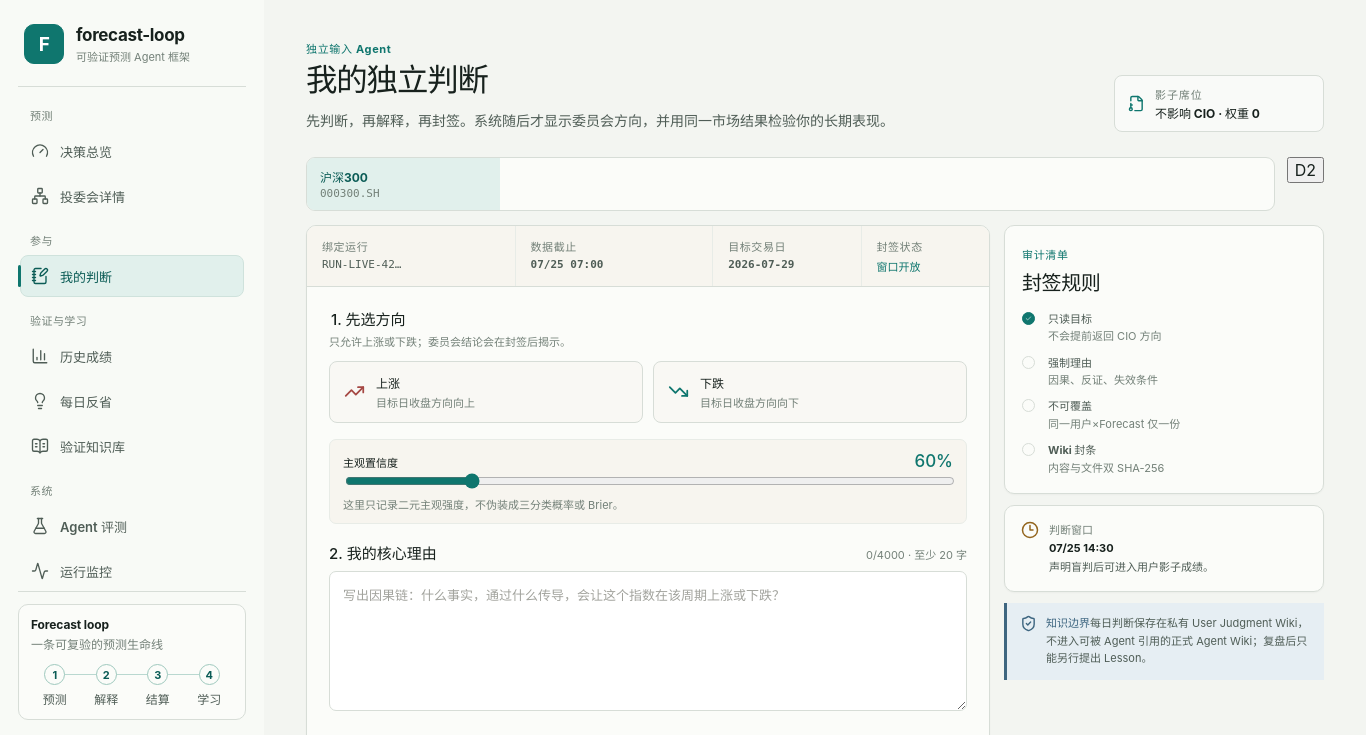
Test: forecast-loop app › seals a User Agent judgment before revealing the committee direction
The width and height of the screenshot is (1366, 735).
Expected: the heading "我的独立判断" is shown, [306, 61, 488, 99]
Click the radio button labelled "上涨 目标日收盘方向向上" at (426,403), box [329, 361, 643, 423]
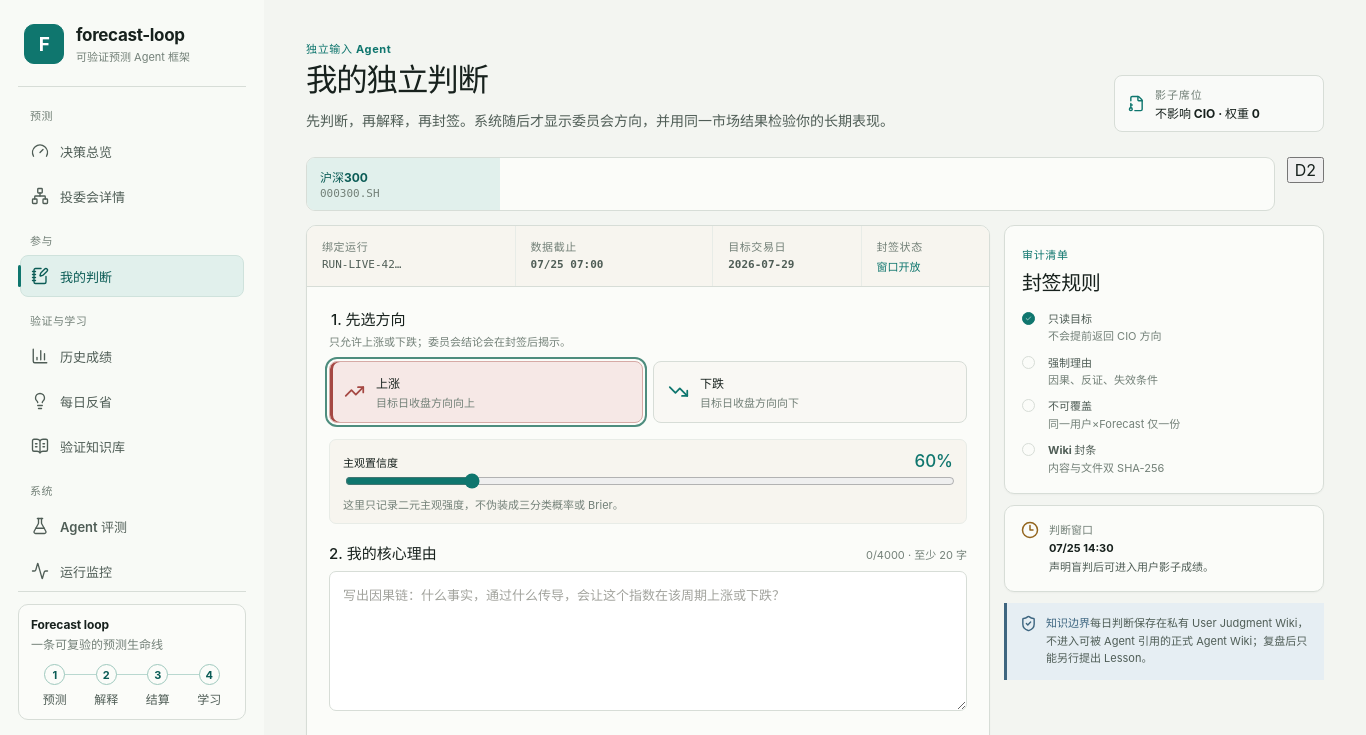
Type "流动性改善与风险偏好回升可能共同推动目标指数在预测窗口内走强。" into the text box labelled "2. 我的核心理由 0/4000 · 至少 20 字" at (648,641), box [329, 571, 967, 711]
(page scrolled)
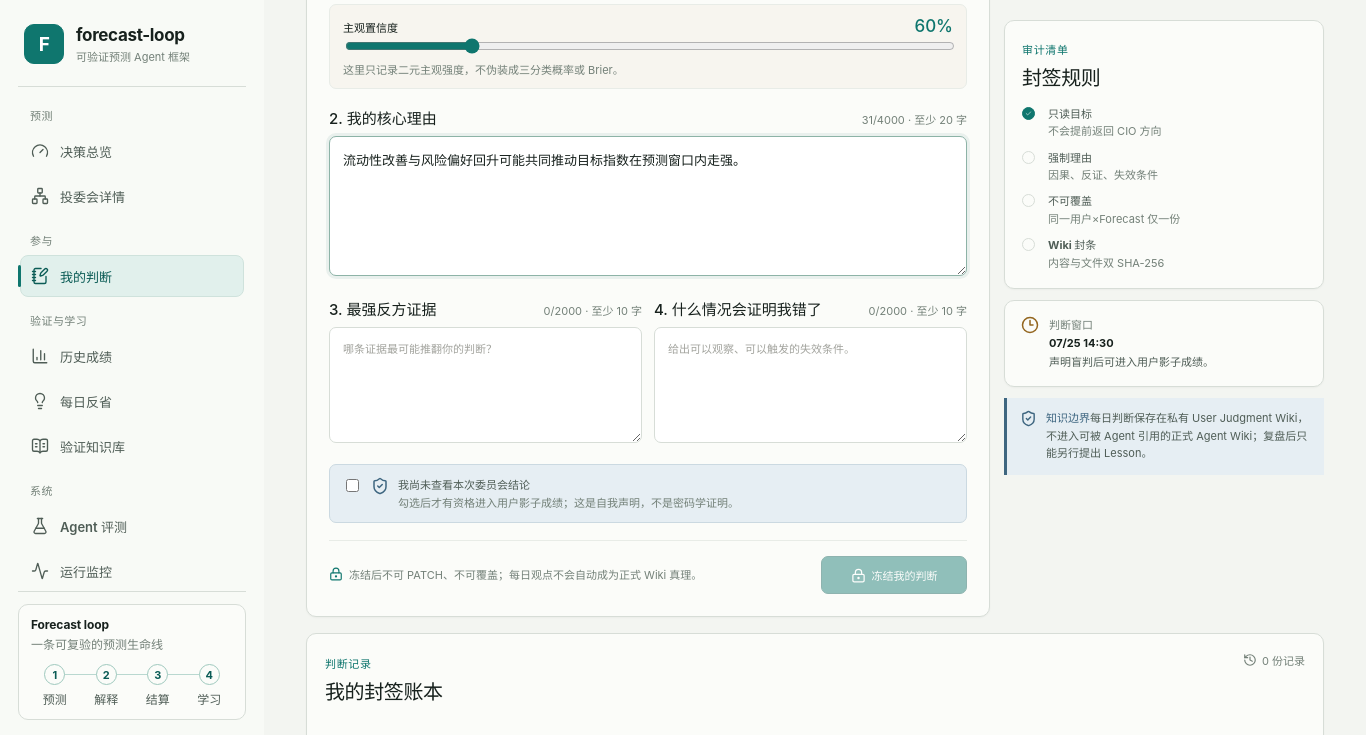
Type "海外利率重新上行可能压制成长估值，并削弱流动性改善效果。" into the text box labelled "3. 最强反方证据 0/2000 · 至少 10 字" at (486,385), box [329, 327, 642, 443]
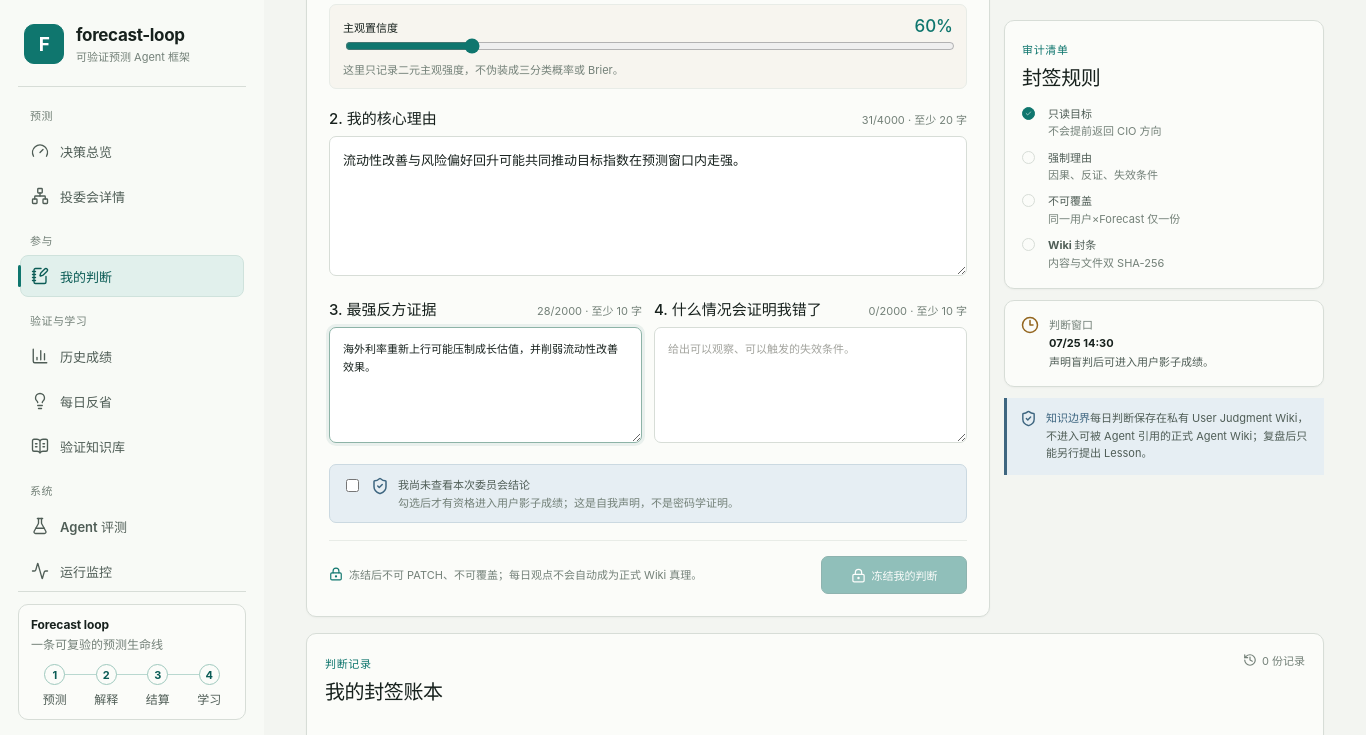
Type "若成交额显著收缩且跌破基准日低点，则本判断失效。" into the text box labelled "4. 什么情况会证明我错了 0/2000 · 至少 10 字" at (810,385), box [654, 327, 967, 443]
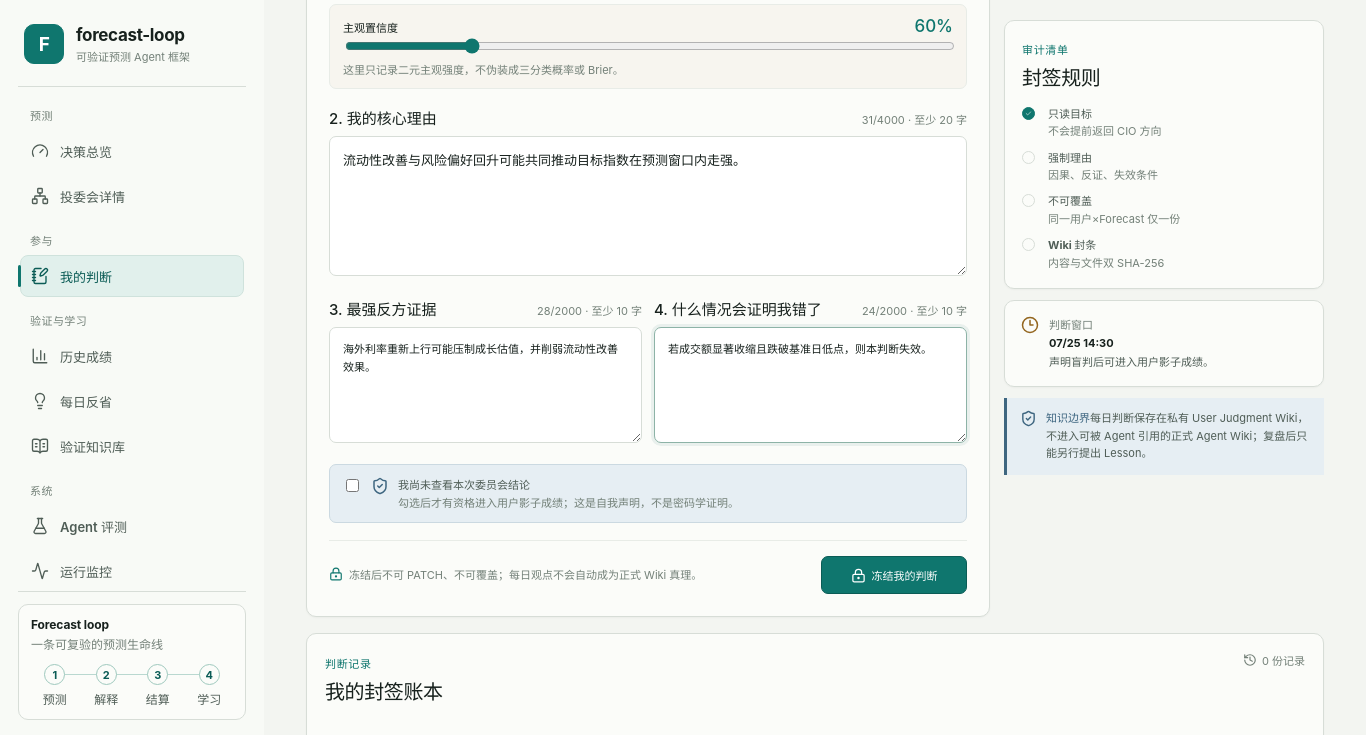
Click the checkbox labelled "我尚未查看本次委员会结论 勾选后才有资格进入用户影子成绩；这是自我声明，不是密码学证明。" at (352,485), box [346, 479, 359, 492]
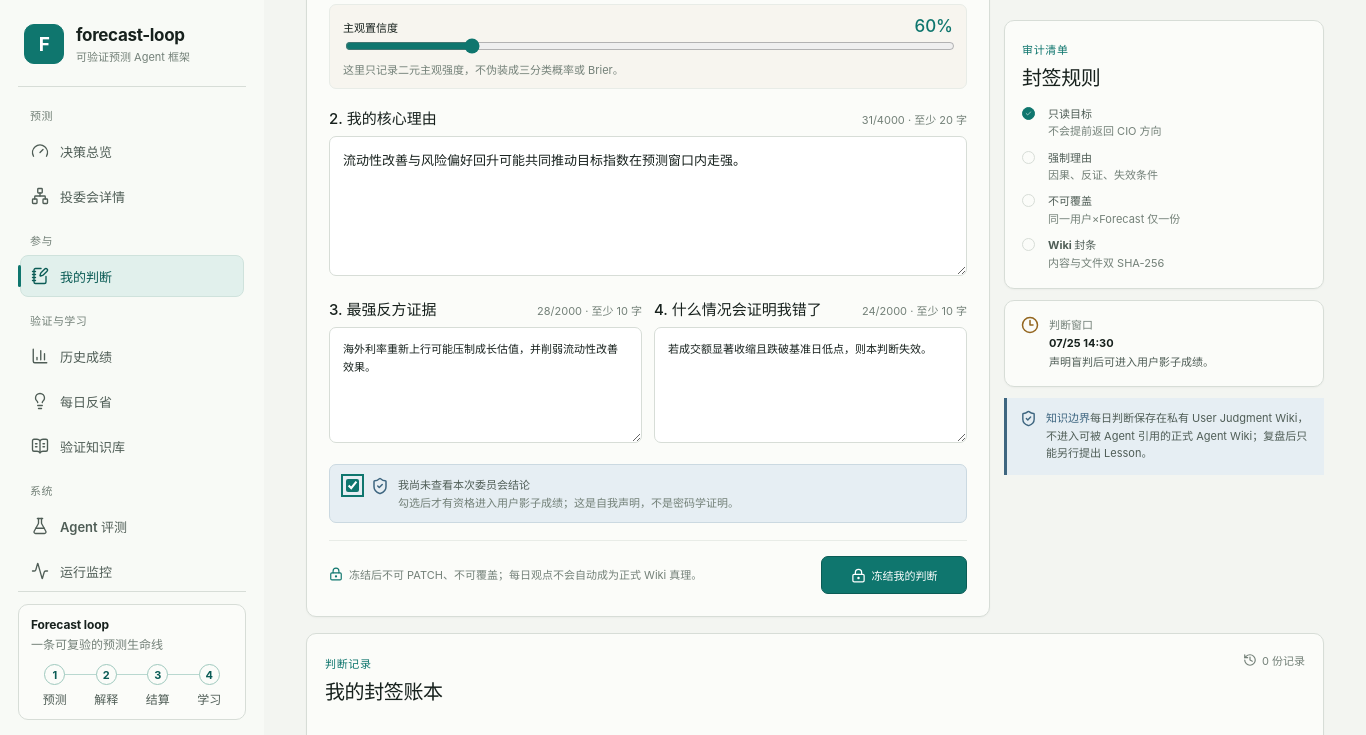
Click the button "冻结我的判断" at (894,575), box [821, 556, 967, 594]
(page scrolled)
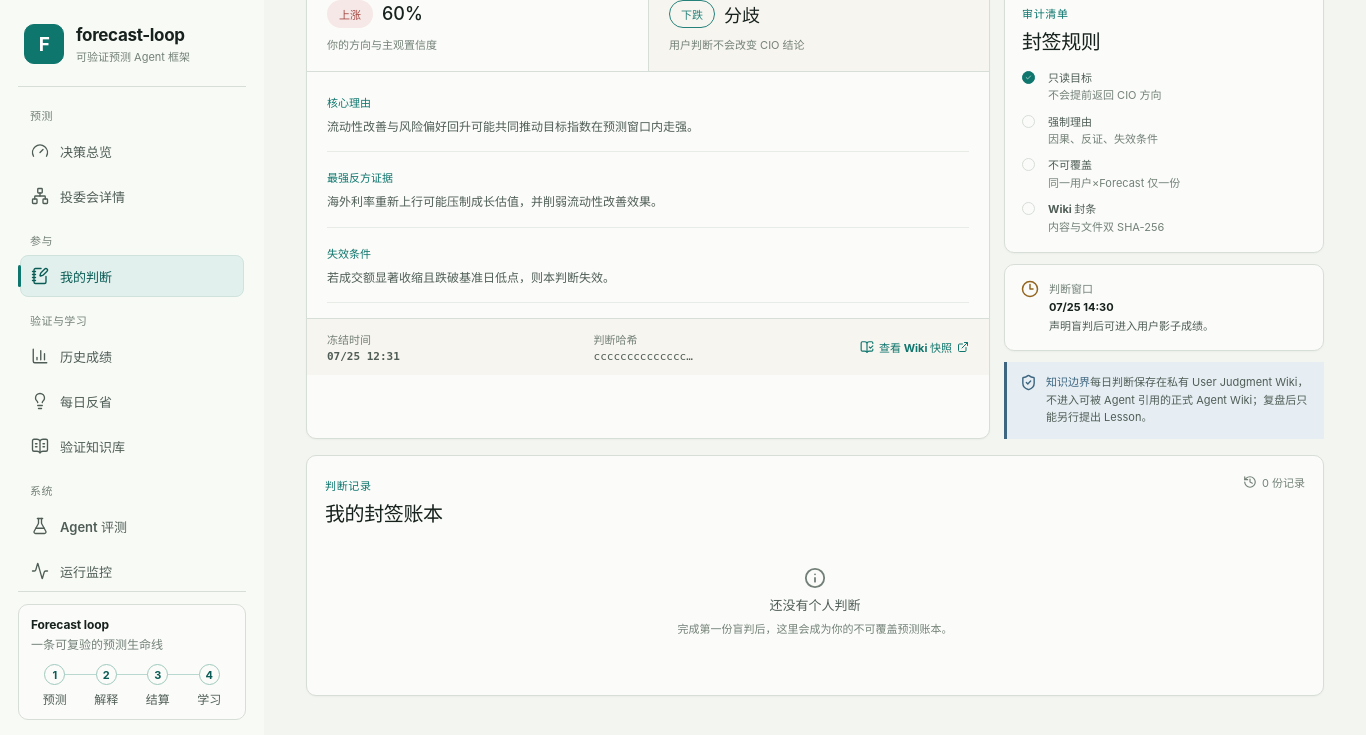
Now the text "分歧" is shown, box [724, 1, 760, 27]
